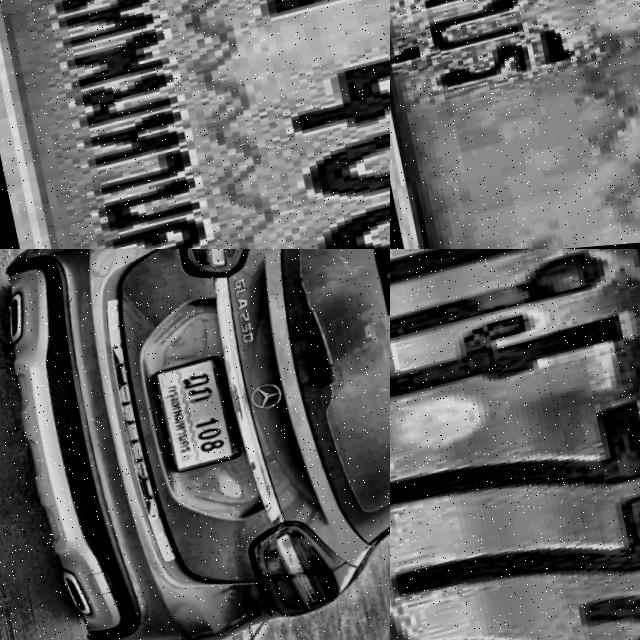license-plate: (390, 249, 640, 640), (0, 0, 390, 249), (390, 0, 640, 249), (148, 358, 239, 483)
